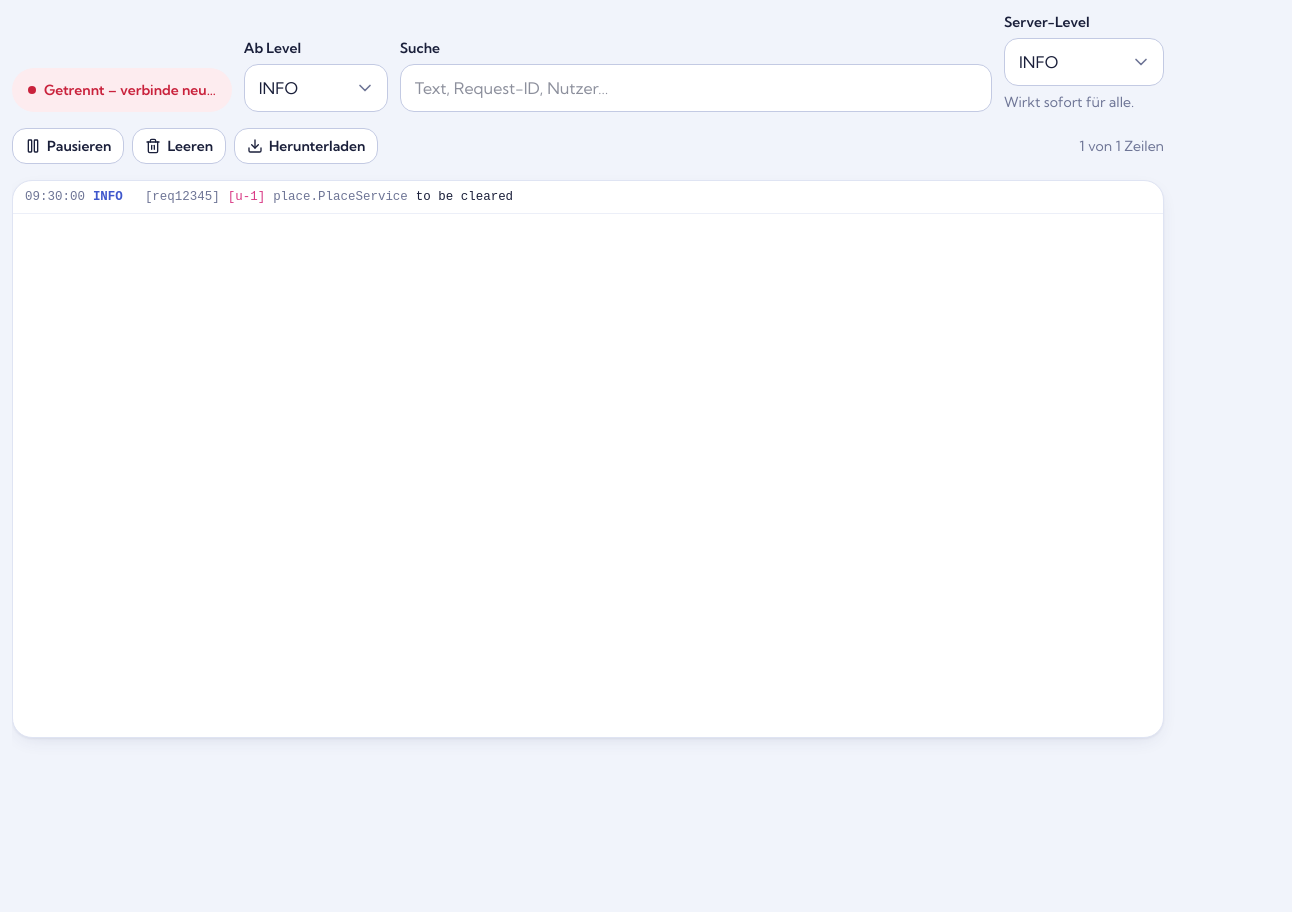
LiveLog › clears the view
This screenshot has width=1292, height=912.
Click the button "Leeren" at coordinates (179, 146), box [132,128,226,164]
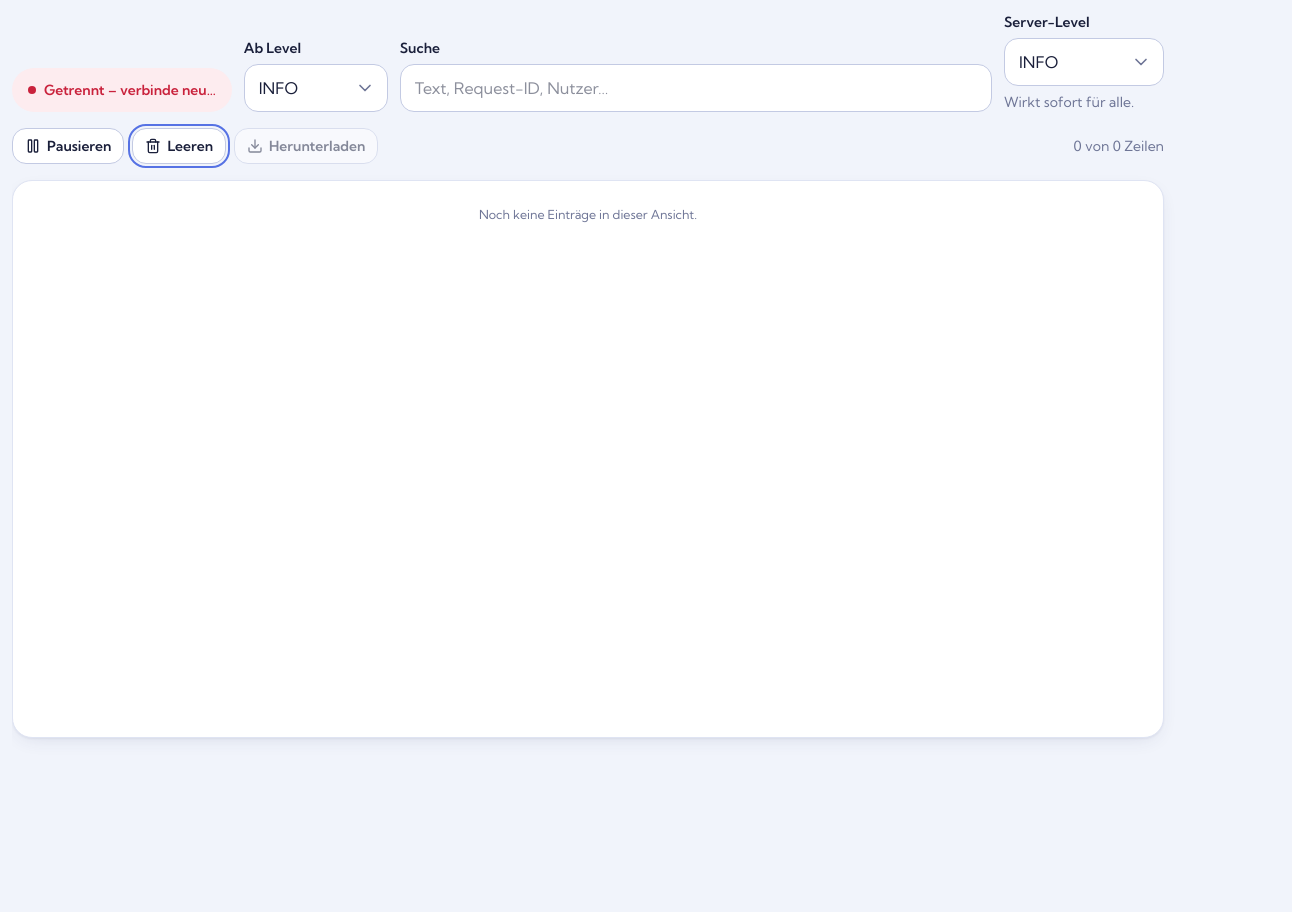
Check: the button "to be cleared" is gone
Check: the text "Noch keine Einträge in dieser Ansicht." is shown, box [479,207,697,222]
